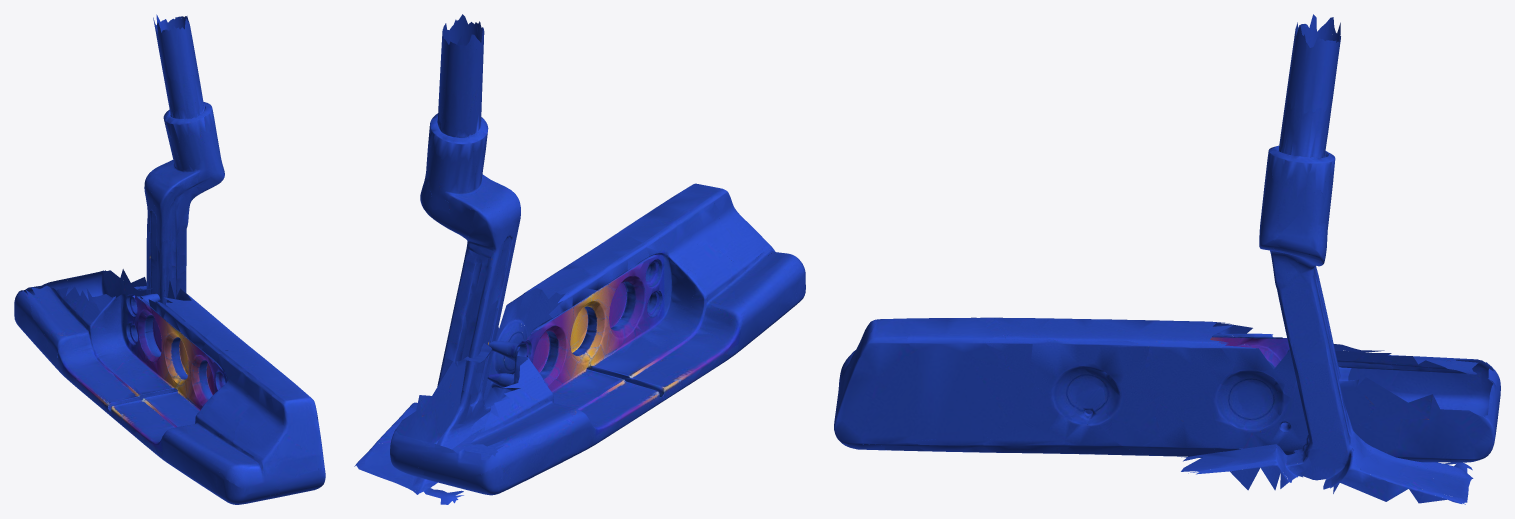
File: putter_oil.glb
The picture shows the model from 3 angles, left to right: view 1: azimuth 30°, elevation 25°; view 2: azimuth 150°, elevation 25°; view 3: azimuth 270°, elevation 25°; orthographic projection. The views are drawn at different scales.
Visible parts, largest first — view 1: pHead, pNeck; view 2: pHead, pNeck; view 3: pHead, pNeck.
Part boxes in pixels (x1,y1,x2,y2): pHead: [14, 269, 325, 504]; pNeck: [144, 14, 224, 304]; pHead: [390, 183, 805, 495]; pNeck: [354, 14, 520, 504]; pHead: [834, 317, 1500, 462]; pNeck: [1181, 14, 1473, 504].
Bounding box in the file's own units: 0.0414 × 0.088 × 0.1121.
Materials: 1 (1 with a texture image).
